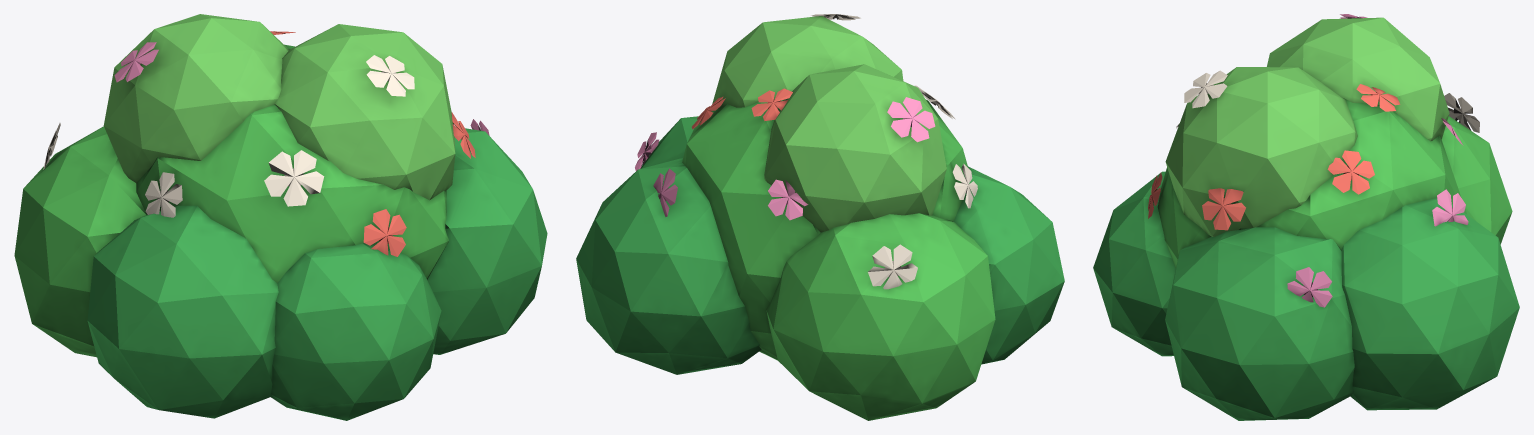
Rendered from bush_flowering.glb.
3 views of the same model, side by side, from view 1: azimuth 30°, elevation 25°; view 2: azimuth 150°, elevation 25°; view 3: azimuth 270°, elevation 25° (orthographic). The views are drawn at different scales.
Parts seen in each view (by area): view 1: bush_flowering; view 2: bush_flowering; view 3: bush_flowering.
Boxes of the visible parts, x1,y1,x2,y2 form: bush_flowering: (14,14,547,420); bush_flowering: (576,14,1064,420); bush_flowering: (1093,14,1519,420).
Size of the model in its own units: 1.31 by 0.9439 by 1.21.
6 materials, 6 textured.
